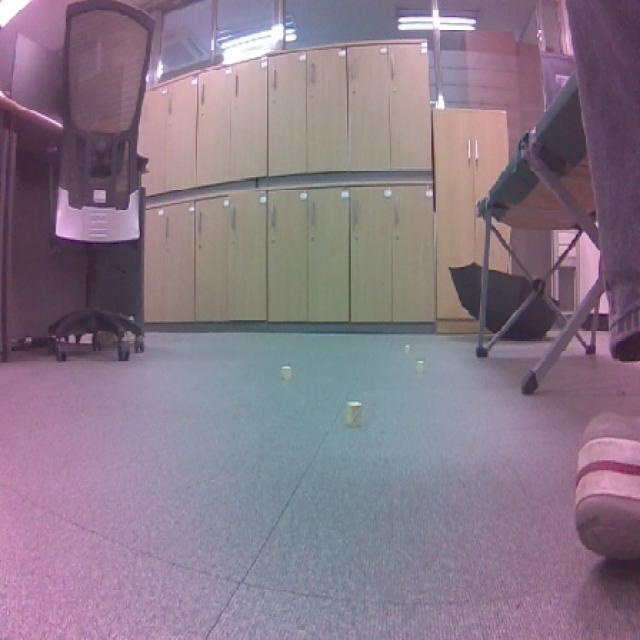obstacle: (341, 396, 370, 434), (274, 356, 297, 391), (411, 358, 428, 381)
